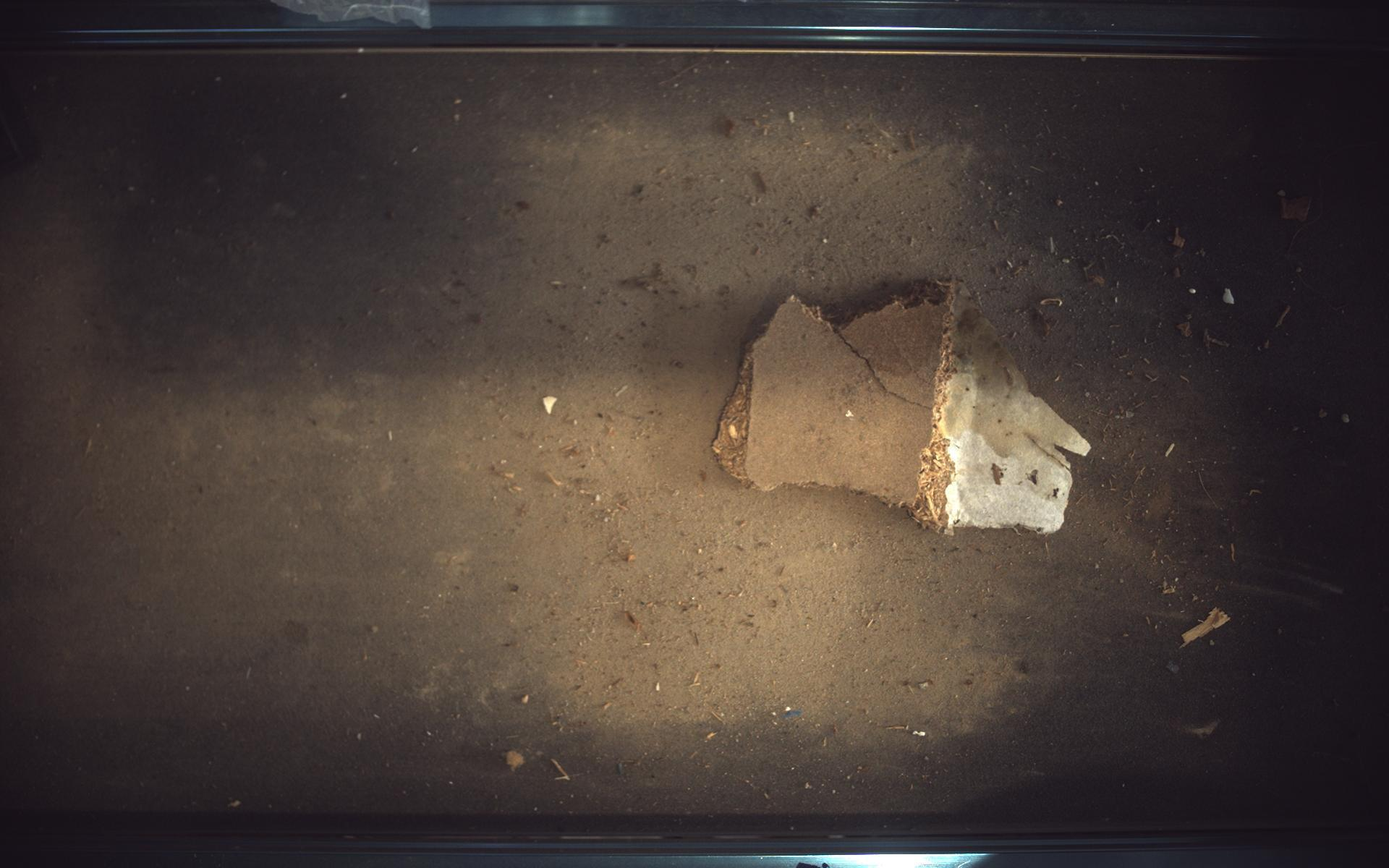wood: (713, 281, 1092, 535)
